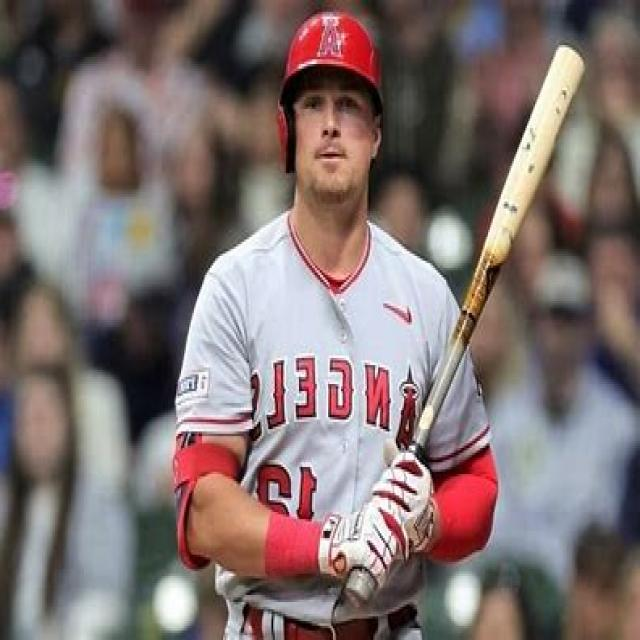bat: (334, 37, 591, 622)
